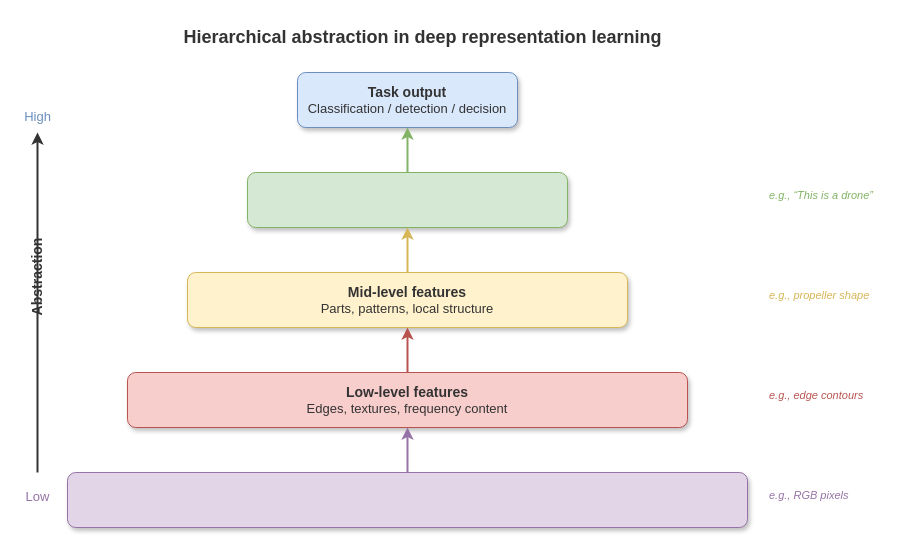
This 914x552 diagram has some shape labels left out. The shapes that lost their labels are listed below. From the top down, each one's centre as x and y in pixels, then its label:
At (408,201): "High-level semantics Concepts, intents, relations".
At (408,501): "Raw input Image pixels / text tokens / sensor signals".
